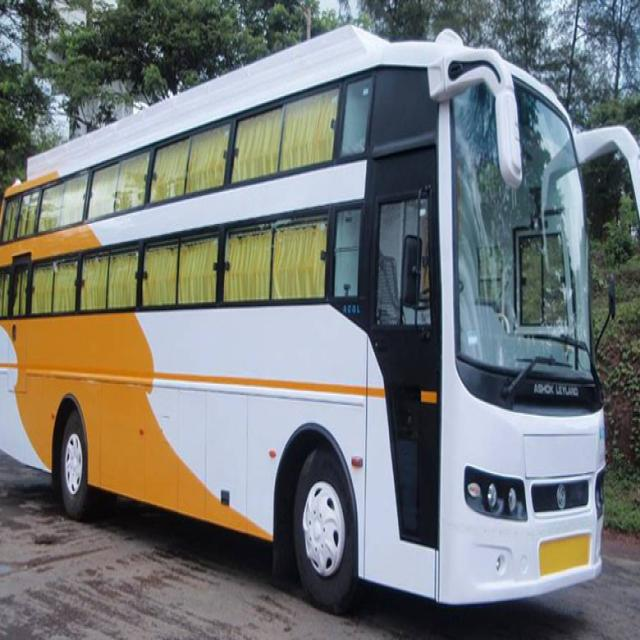bus: (0, 28, 640, 609)
